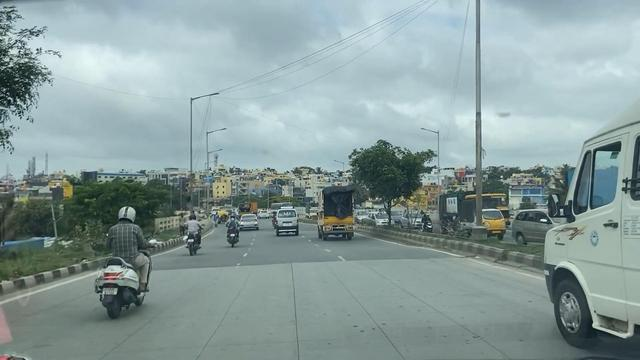HMV: (548, 126, 640, 353), (310, 180, 354, 249)
LMV: (92, 206, 155, 306), (182, 206, 206, 259), (223, 216, 241, 245)
